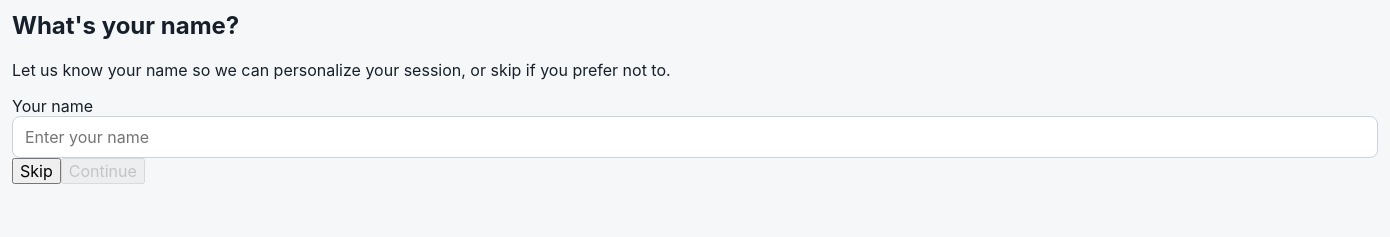
Scenario: submits the provided name and shows the acknowledgment message
Type "Maria" into the field labelled "Your name" at point(695, 137), box [12,116,1378,158]
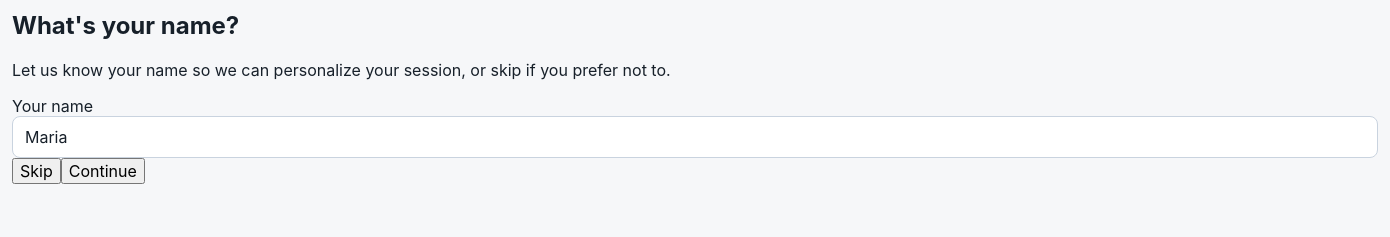
Click the button "Continue" at point(103, 171), box [61,158,145,184]
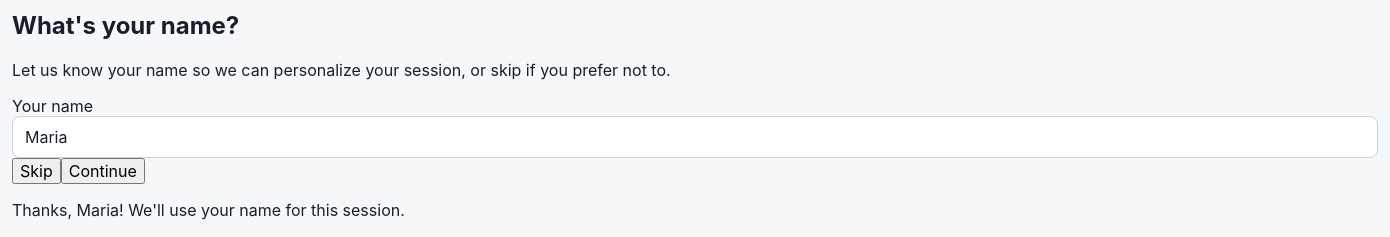
Check: the text "Thanks, Maria! We'll use your name for this session." is shown, box [12,200,405,220]
